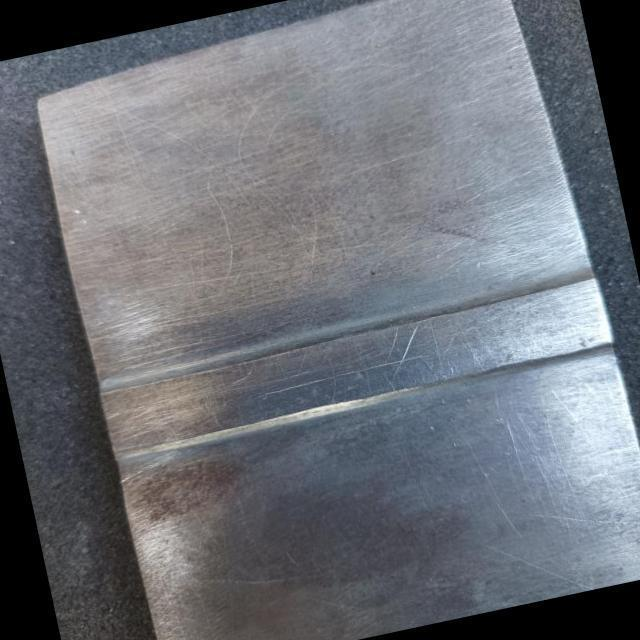defect: (255, 352, 436, 398)
